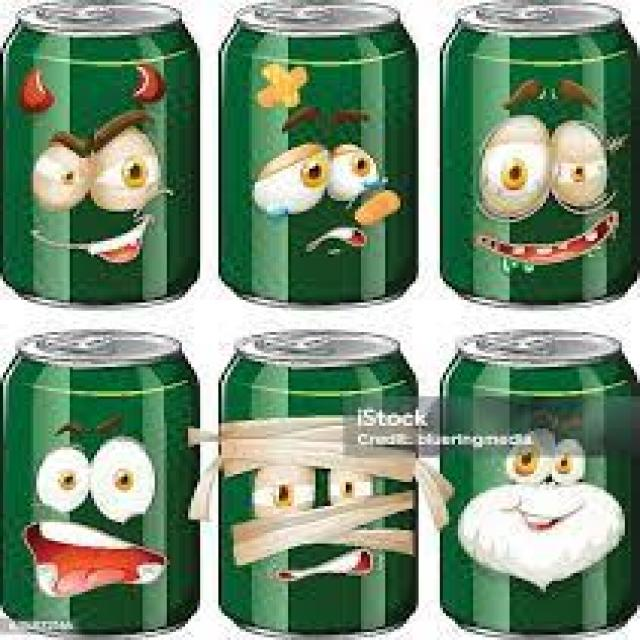Cans: (209, 327, 428, 637), (212, 3, 425, 313), (433, 329, 640, 639), (3, 324, 206, 640), (437, 2, 640, 310), (3, 3, 203, 305)
